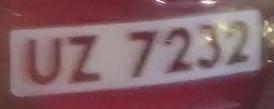2: (159, 24, 197, 79), (221, 17, 255, 69)
3: (193, 18, 226, 73)
7: (120, 26, 165, 82)
U: (23, 32, 67, 91)
Z: (62, 29, 109, 89)
